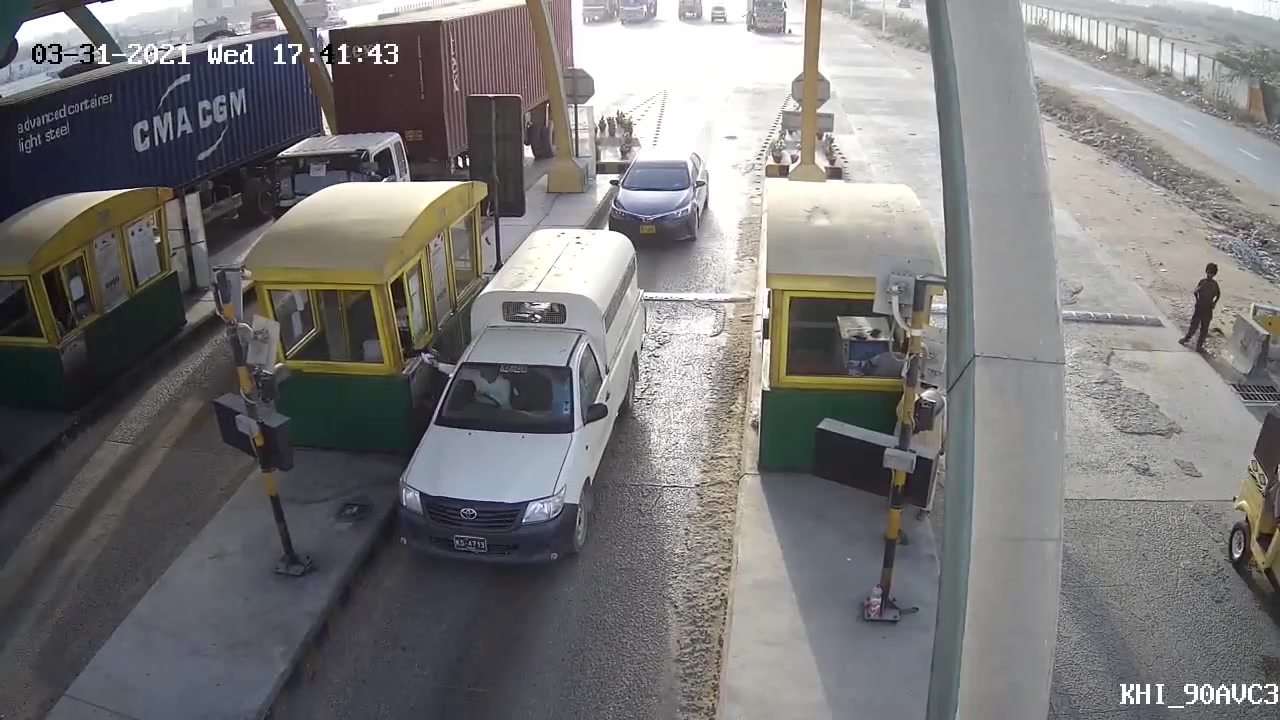F1: (396, 230, 640, 569), (598, 145, 713, 248)
